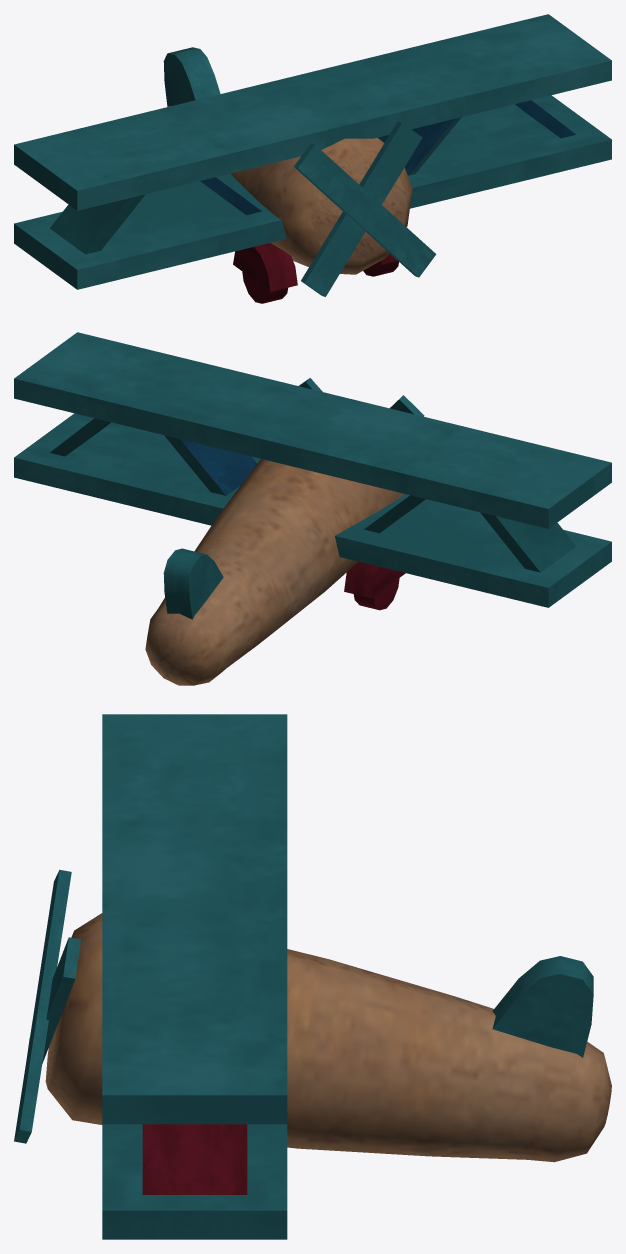
Rendered from Toy_Plane.fbx.
3 views of the same model, one above another, from view 1: azimuth 30°, elevation 25°; view 2: azimuth 150°, elevation 25°; view 3: azimuth 270°, elevation 25° (orthographic). The views are drawn at different scales.
Parts seen in each view (by area): view 1: Toy_Plane; view 2: Toy_Plane; view 3: Toy_Plane.
Part boxes in pixels (x1=…): Toy_Plane: x1=14, y1=14, x2=611, y2=303; Toy_Plane: x1=14, y1=332, x2=611, y2=685; Toy_Plane: x1=14, y1=714, x2=611, y2=1239.
Bounding box in the file's own units: 368 × 119 × 244.
